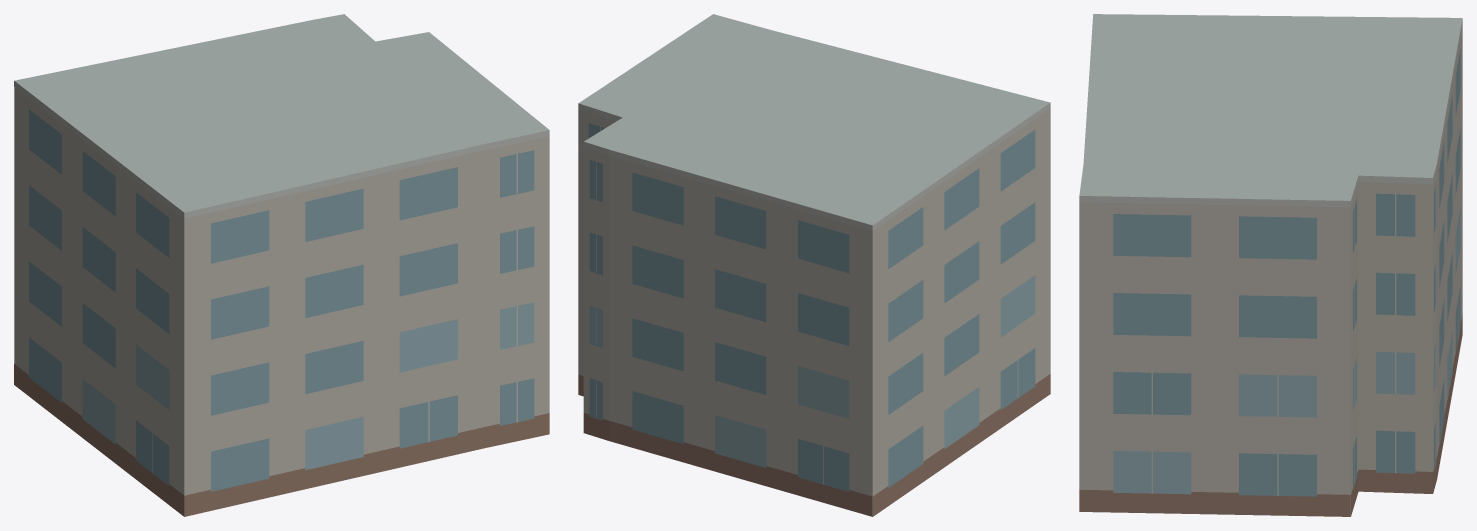
File: survey-upis-32756768.glb
3 views of the same model, side by side, from view 1: azimuth 30°, elevation 25°; view 2: azimuth 150°, elevation 25°; view 3: azimuth 270°, elevation 25° (orthographic). The views are drawn at different scales.
Parts seen in each view (by area): view 1: survey-upis-32756768.tmp; view 2: survey-upis-32756768.tmp; view 3: survey-upis-32756768.tmp.
Part boxes in pixels (x1=…): survey-upis-32756768.tmp: x1=14, y1=14, x2=549, y2=516; survey-upis-32756768.tmp: x1=578, y1=14, x2=1050, y2=516; survey-upis-32756768.tmp: x1=1079, y1=14, x2=1462, y2=516.
Size of the model in its own units: 15.49 by 12.2 by 13.42.
